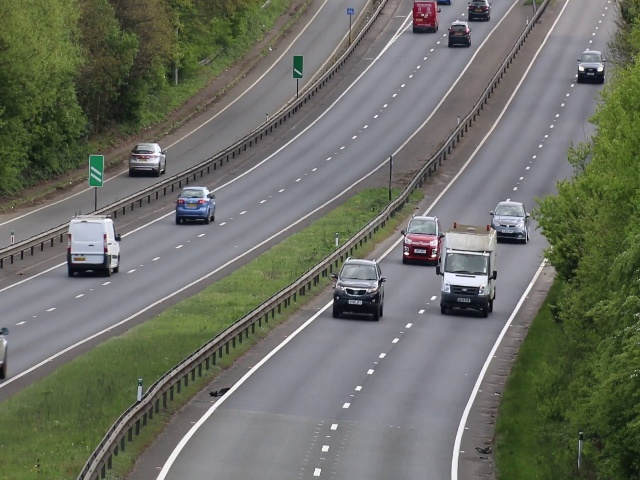car: (439, 228, 502, 316), (65, 212, 123, 279), (336, 255, 384, 320), (402, 212, 441, 268), (494, 198, 529, 246), (175, 184, 215, 225), (129, 139, 167, 176), (575, 45, 605, 87), (411, 1, 441, 34), (448, 19, 469, 48), (466, 1, 492, 22)
